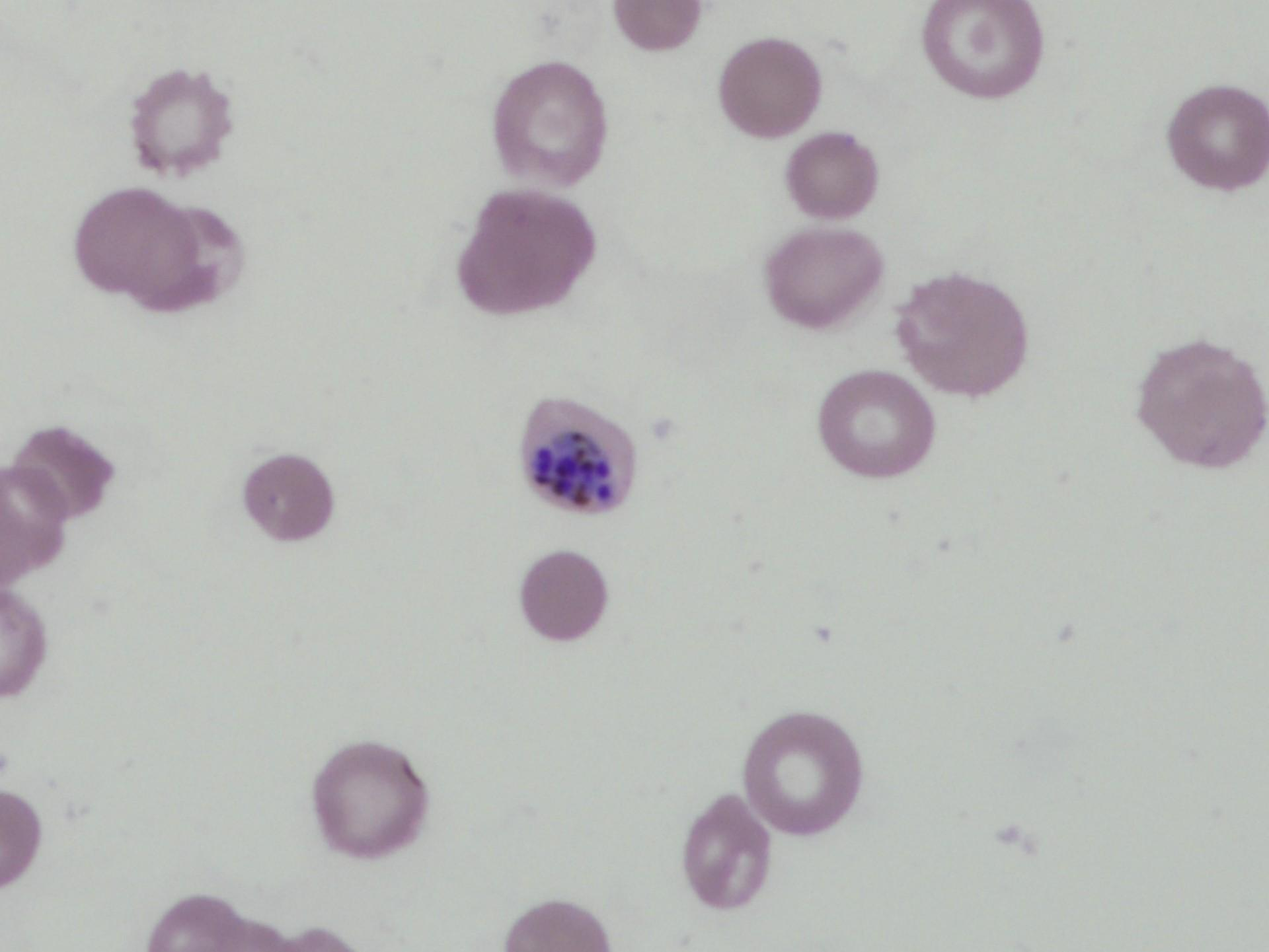Infected: (522, 396, 634, 511)
Uninfected: (73, 187, 210, 310), (461, 192, 594, 312), (1134, 343, 1262, 466), (899, 285, 1027, 400), (744, 714, 860, 834), (493, 63, 605, 184), (312, 745, 422, 857), (924, 0, 1044, 97), (765, 230, 880, 326), (824, 377, 934, 475), (1166, 87, 1269, 188), (132, 71, 232, 172), (719, 39, 821, 135), (683, 797, 769, 907), (15, 427, 114, 519), (519, 551, 609, 641), (1, 476, 70, 587), (787, 132, 878, 216), (243, 454, 332, 539)
